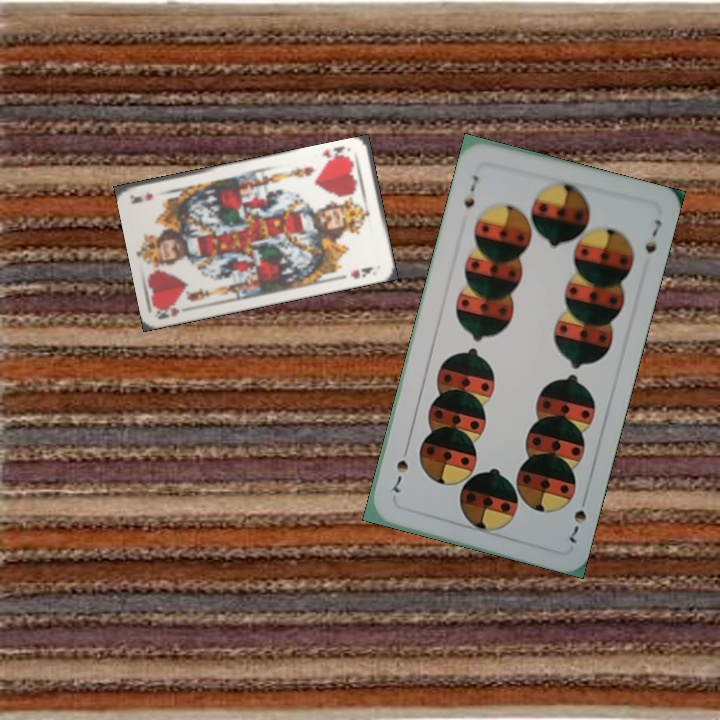HK: (318, 142, 353, 166), (154, 300, 182, 321)
S7: (564, 490, 590, 546), (460, 170, 481, 211)
